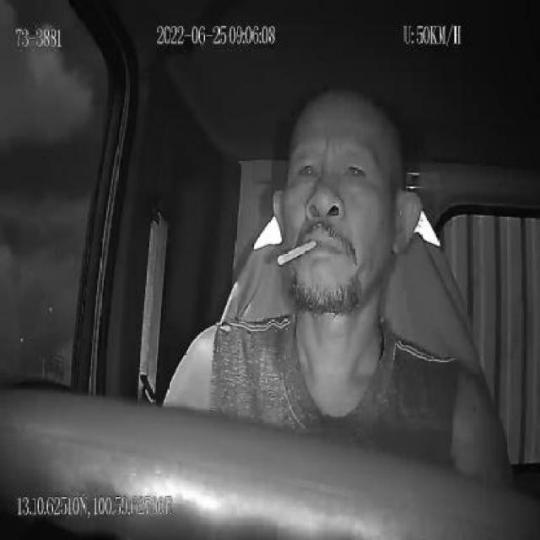smoking: (276, 237, 317, 268)
